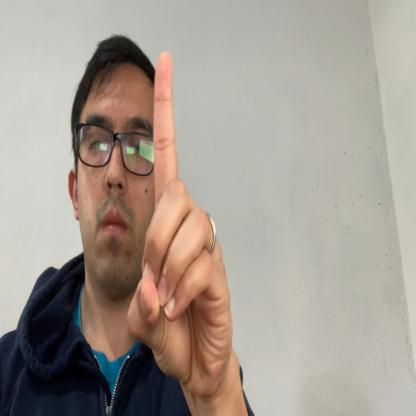D: (128, 52, 232, 394)
